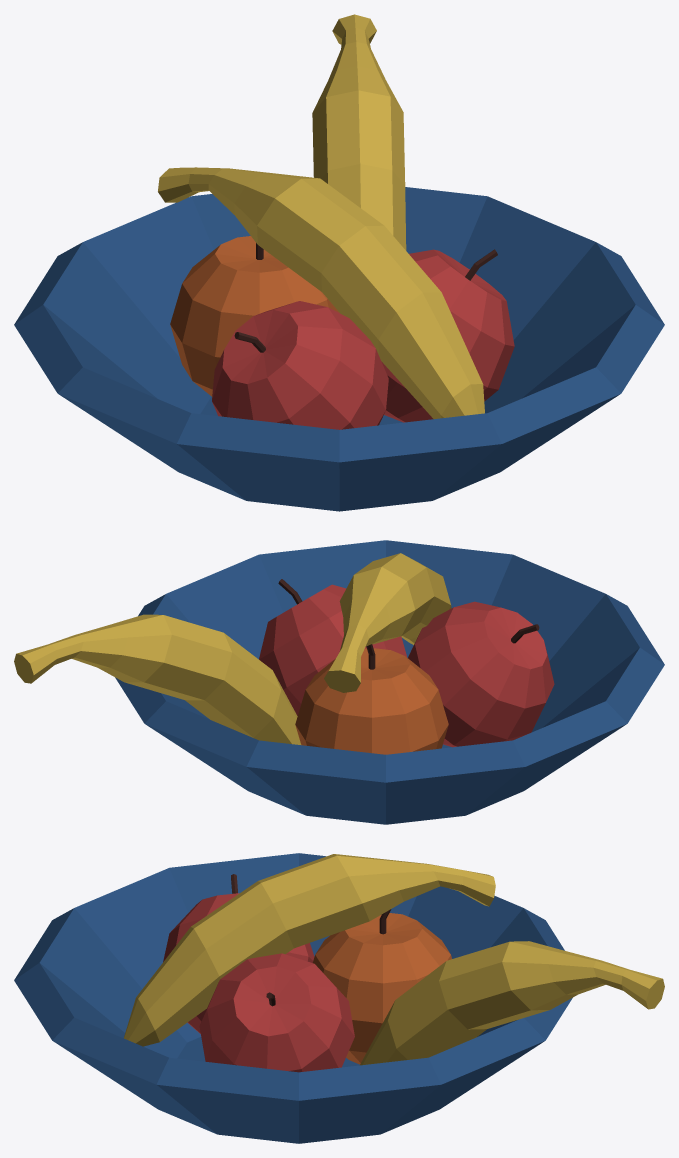
The model's file is Fruit_Basket_Hat.glb.
3 views of the same model, one above another, from view 1: azimuth 30°, elevation 25°; view 2: azimuth 150°, elevation 25°; view 3: azimuth 270°, elevation 25° (orthographic). The views are drawn at different scales.
Visible parts, largest first — view 1: FruitBowl; view 2: FruitBowl; view 3: FruitBowl.
Part boxes in pixels (box(x1,y1,x2,y2)): FruitBowl: box(14, 14, 664, 511); FruitBowl: box(14, 540, 664, 824); FruitBowl: box(14, 853, 664, 1143).
Size of the model in its own units: 0.2225 by 0.0975 by 0.2541.
